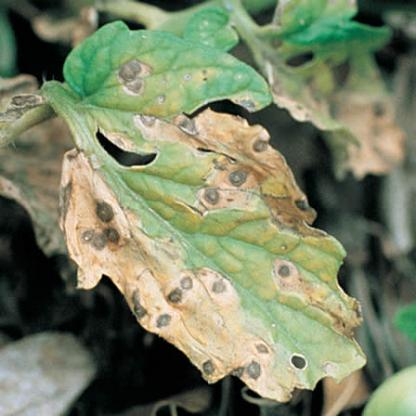tomato early blight leaf: (44, 23, 377, 402)
